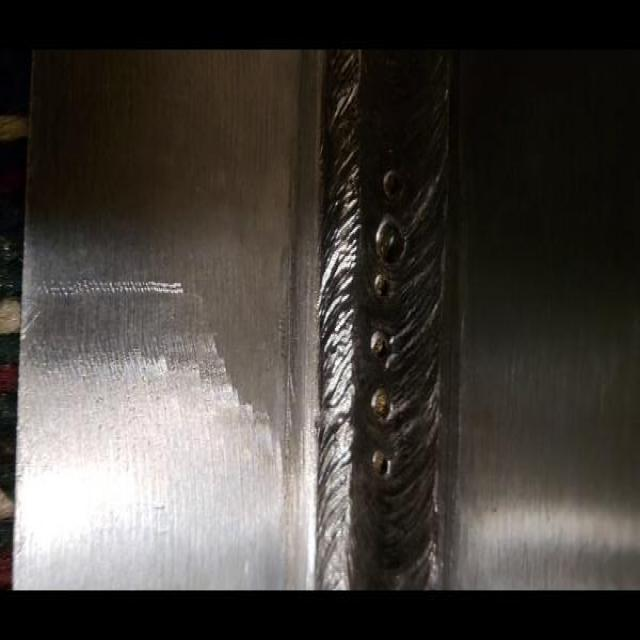Welding Line: (324, 55, 440, 589)
Workpiece: (36, 49, 637, 588)
porosity: (369, 170, 406, 473)
